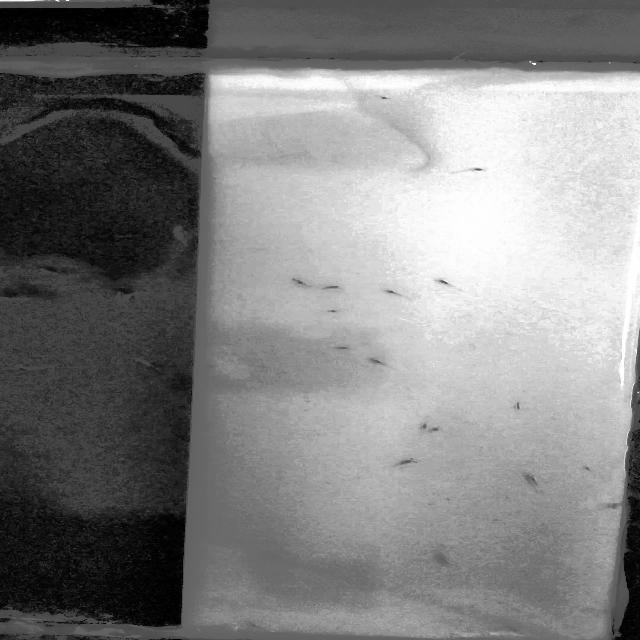shrimp: (363, 355, 406, 373), (284, 277, 314, 293), (378, 285, 413, 297), (423, 277, 458, 289), (392, 457, 424, 470), (326, 341, 356, 354), (466, 160, 485, 180), (429, 425, 454, 435), (429, 551, 447, 564), (245, 623, 274, 631), (500, 625, 525, 634), (322, 282, 343, 292), (508, 400, 522, 412), (414, 421, 429, 432), (578, 464, 596, 473), (528, 476, 542, 487), (326, 308, 345, 315)
